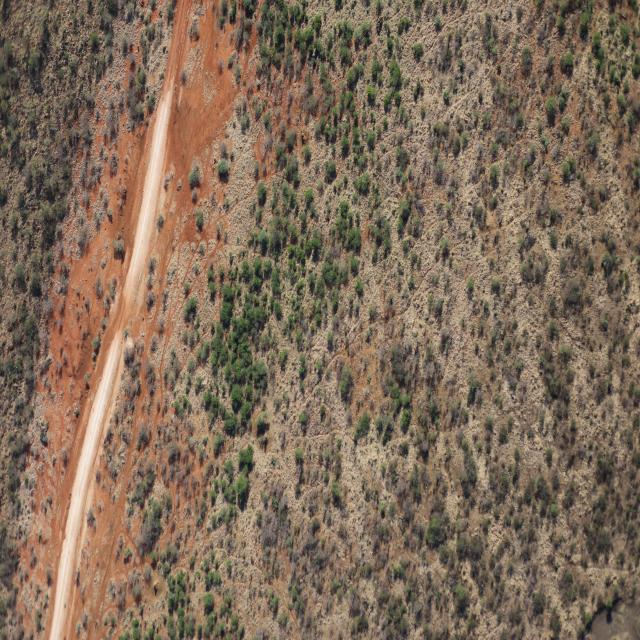elephant: (376, 15, 383, 25), (312, 48, 316, 57), (87, 73, 90, 77)
